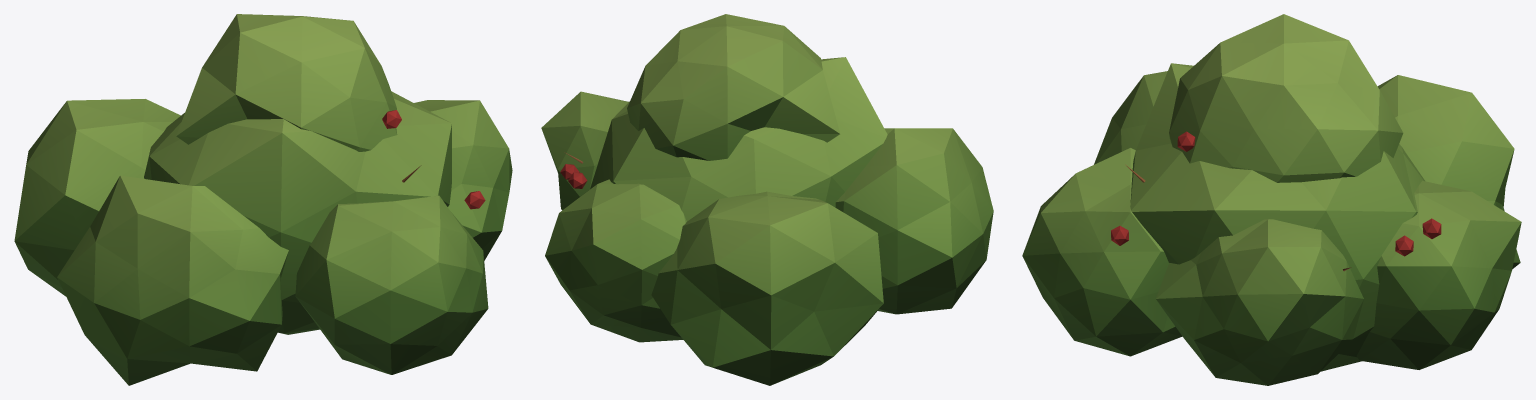
The model's file is forest_bush_01.glb.
3 renders of one model, left to right at view 1: azimuth 30°, elevation 25°; view 2: azimuth 150°, elevation 25°; view 3: azimuth 270°, elevation 25°, orthographic. The views are drawn at different scales.
Parts seen in each view (by area): view 1: forest_bush_01_foliage; view 2: forest_bush_01_foliage; view 3: forest_bush_01_foliage.
Part boxes in pixels (<box>): forest_bush_01_foliage: <box>14,14,512,385</box>; forest_bush_01_foliage: <box>541,14,993,385</box>; forest_bush_01_foliage: <box>1022,14,1521,385</box>.
Bounding box in the file's own units: 2.23 × 1.47 × 2.13.
